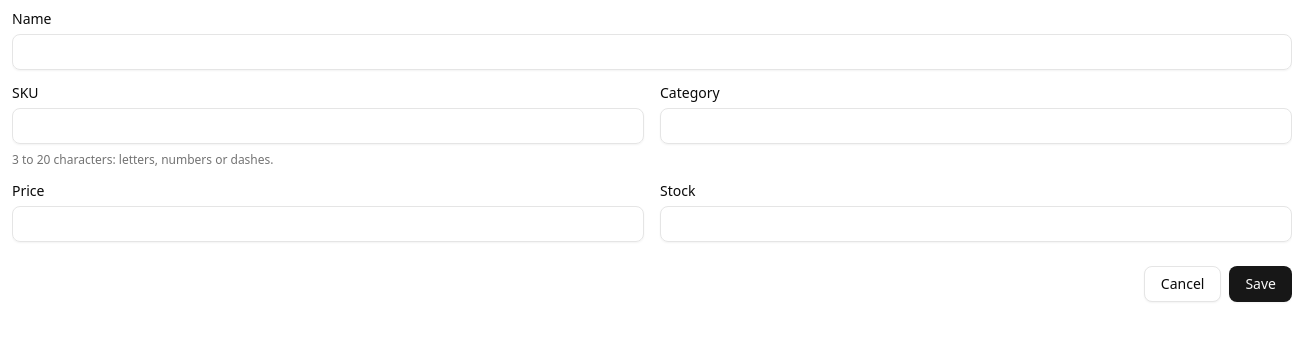
Test: <ProductForm /> › muestra los errores específicos de cada value object
Type "Webcam" into the field labelled "Name".
click(652, 52); type("Webcam")  # box left=12, top=34, right=1292, bottom=70
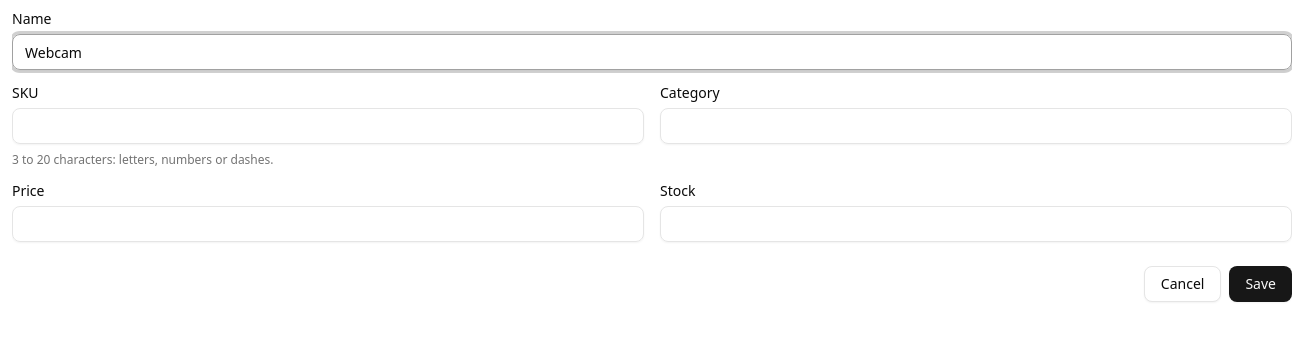
Type "OK-123" into the field labelled "SKU".
click(328, 126); type("OK-123")  # box left=12, top=108, right=644, bottom=144
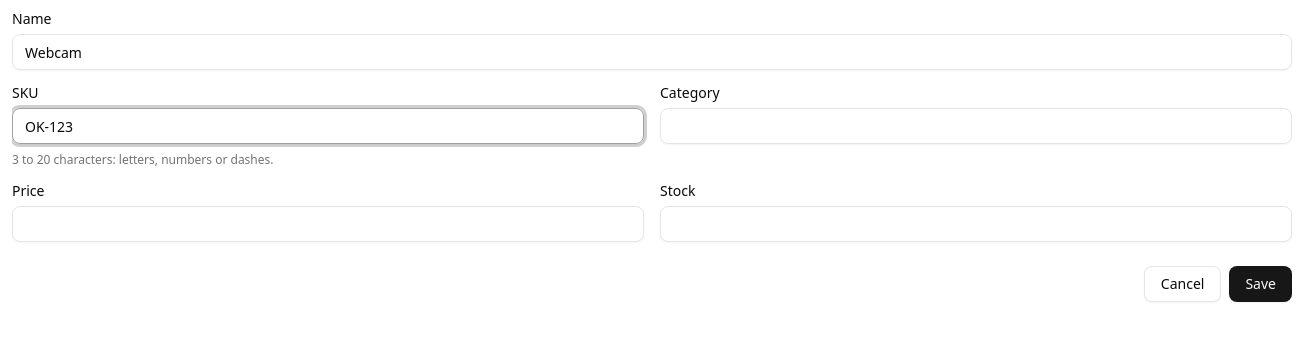
Type "Accessories" into the field labelled "Category".
click(976, 126); type("Accessories")  # box left=660, top=108, right=1292, bottom=144
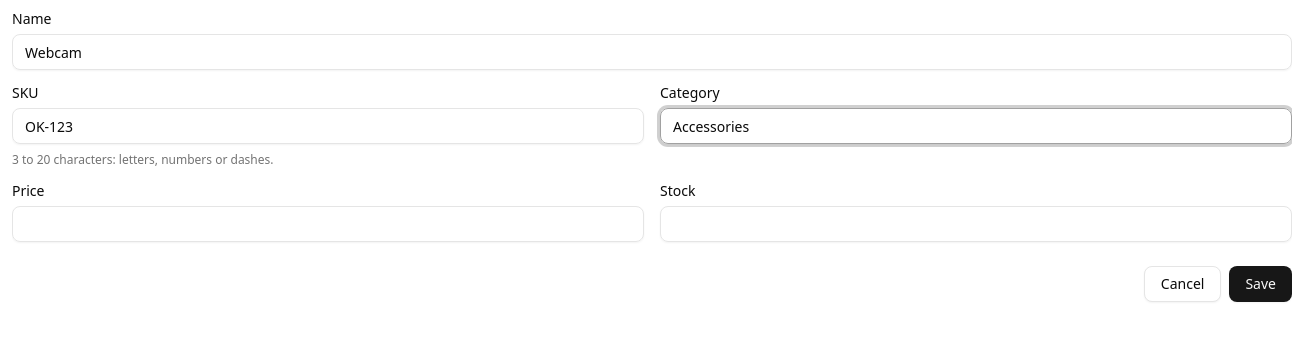
Type "abc" into the field labelled "Price".
click(328, 224); type("abc")  # box left=12, top=206, right=644, bottom=242
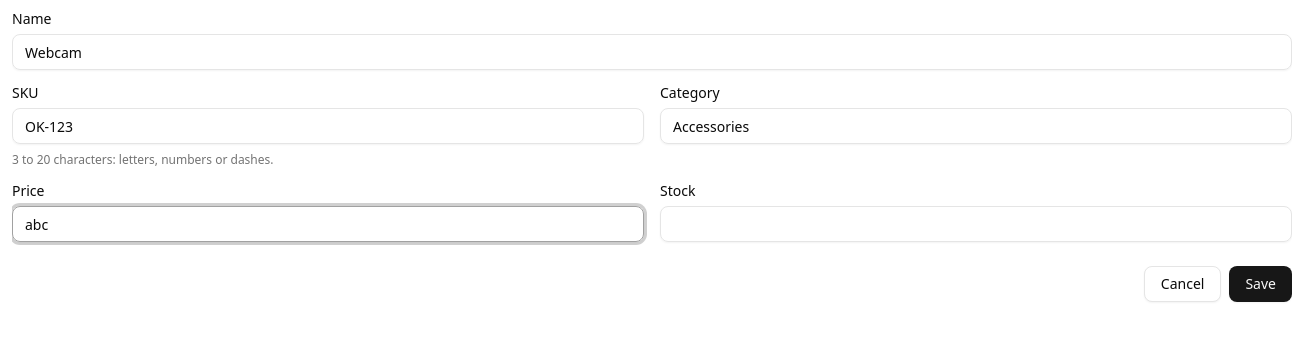
Type "-2" into the field labelled "Stock".
click(976, 224); type("-2")  # box left=660, top=206, right=1292, bottom=242
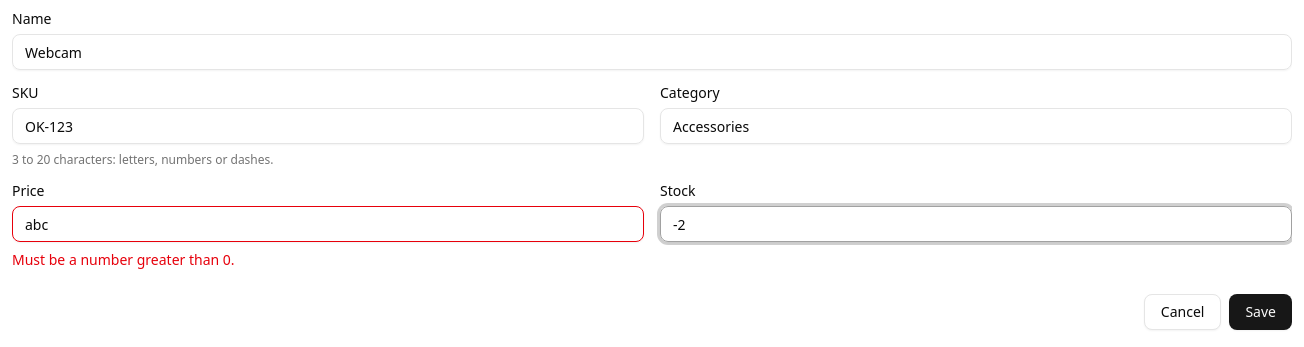
Click the button "Save".
click(1261, 312)  # box left=1229, top=294, right=1292, bottom=330
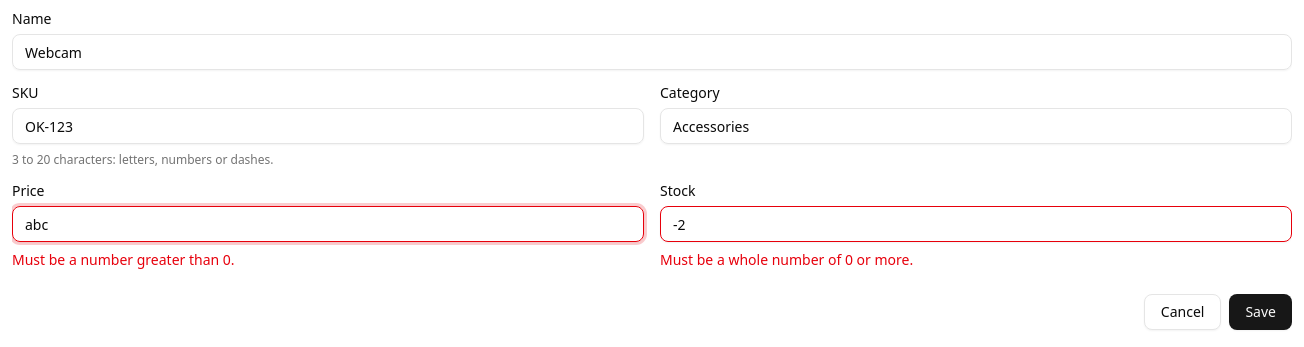
Expected: the text "Must be a number greater than 0." is shown, left=12, top=250, right=235, bottom=269
Expected: the text "Must be a whole number of 0 or more." is shown, left=660, top=250, right=913, bottom=269
